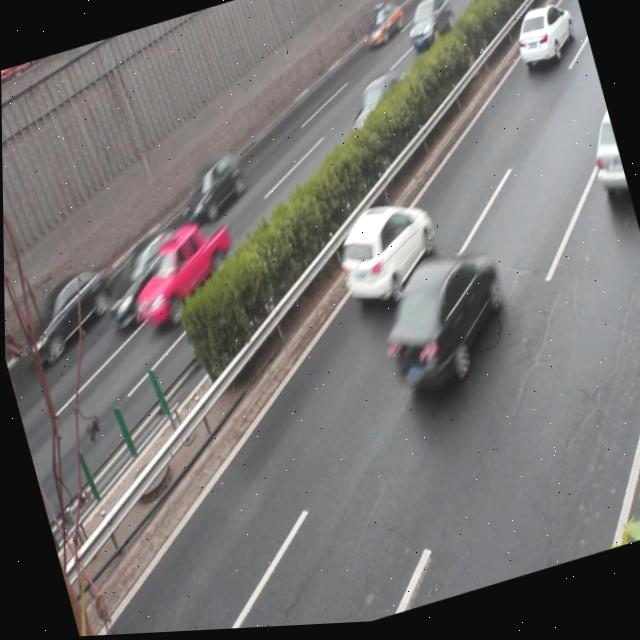car: (366, 251, 516, 400), (325, 194, 445, 317), (118, 217, 243, 332), (92, 228, 201, 337), (15, 264, 123, 372), (335, 68, 423, 151), (176, 153, 253, 230), (506, 1, 579, 77), (580, 114, 628, 206), (398, 0, 458, 60)
